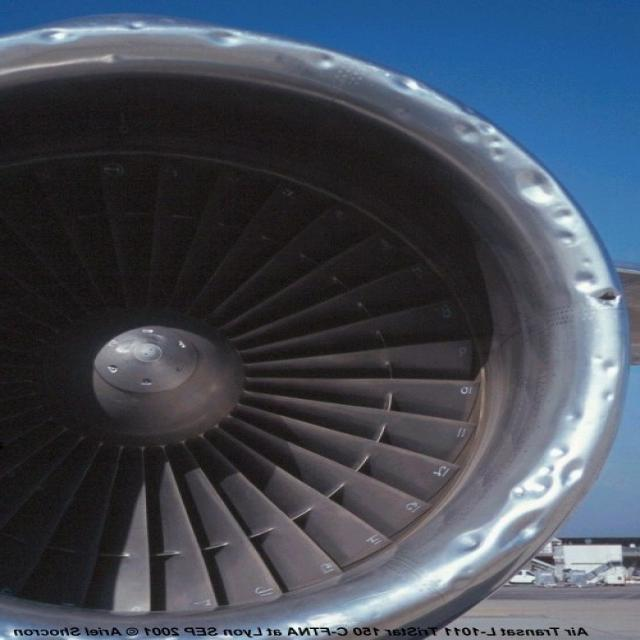dent: (442, 445, 588, 593), (512, 166, 565, 205)
